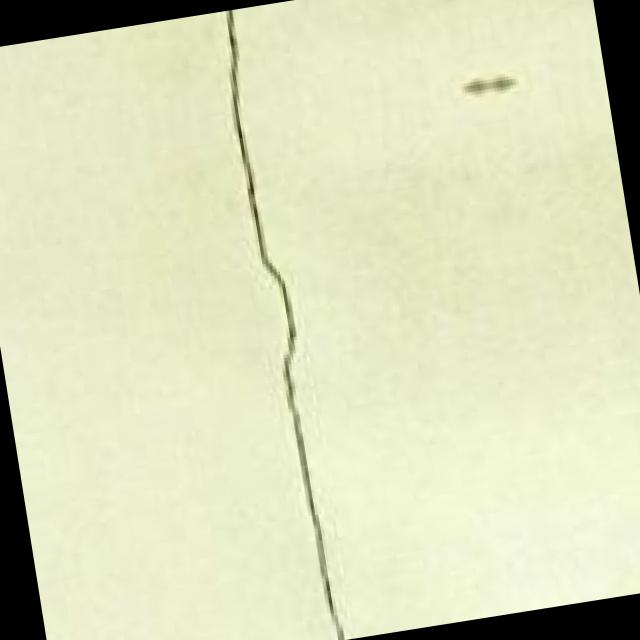crack: (137, 0, 433, 640)
